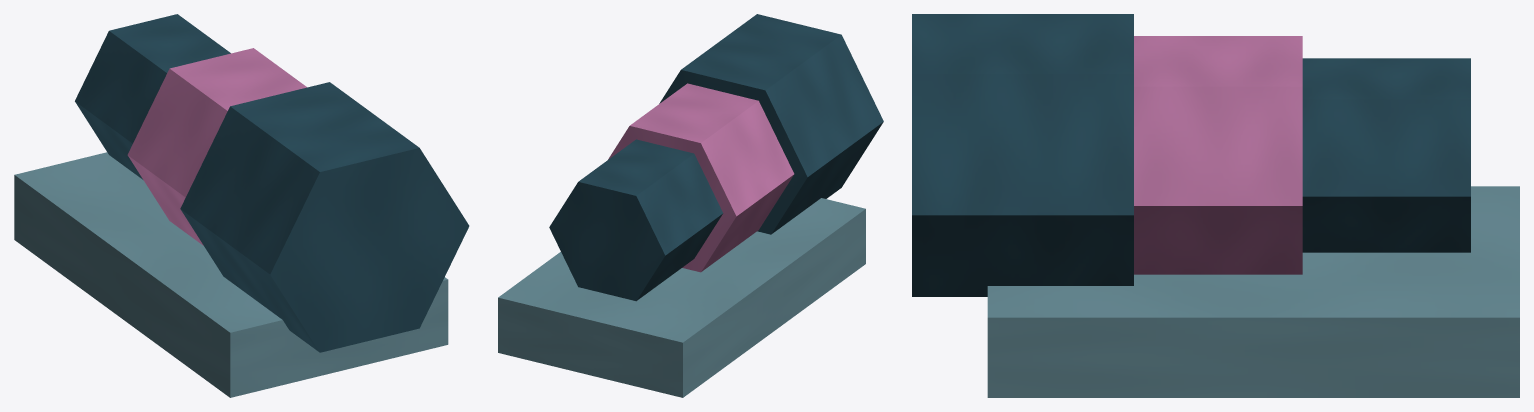
Rendered from atlas100-s066-a05.lod1.glb.
3 renders of one model, left to right at view 1: azimuth 30°, elevation 25°; view 2: azimuth 150°, elevation 25°; view 3: azimuth 270°, elevation 25°, orthographic. The views are drawn at different scales.
Parts seen in each view (by area): view 1: atlas100-s066-a05:part-002, atlas100-s066-a05:part-004, atlas100-s066-a05:part-001, atlas100-s066-a05:part-000; view 2: atlas100-s066-a05:part-004, atlas100-s066-a05:part-002, atlas100-s066-a05:part-000, atlas100-s066-a05:part-001; view 3: atlas100-s066-a05:part-004, atlas100-s066-a05:part-002, atlas100-s066-a05:part-001, atlas100-s066-a05:part-000.
Boxes of the visible parts, x1,y1,x2,y2 form: atlas100-s066-a05:part-002: (180, 82, 469, 352); atlas100-s066-a05:part-004: (14, 152, 448, 397); atlas100-s066-a05:part-001: (127, 48, 306, 245); atlas100-s066-a05:part-000: (75, 14, 230, 179); atlas100-s066-a05:part-004: (498, 198, 865, 397); atlas100-s066-a05:part-002: (659, 14, 883, 234); atlas100-s066-a05:part-000: (549, 139, 723, 301); atlas100-s066-a05:part-001: (608, 83, 794, 272); atlas100-s066-a05:part-004: (987, 186, 1519, 397); atlas100-s066-a05:part-002: (912, 14, 1133, 296); atlas100-s066-a05:part-001: (1134, 36, 1302, 274); atlas100-s066-a05:part-000: (1302, 58, 1470, 252).
Bounding box in the file's own units: 0.3822 × 0.3916 × 0.748.
3 materials, 3 textured.
